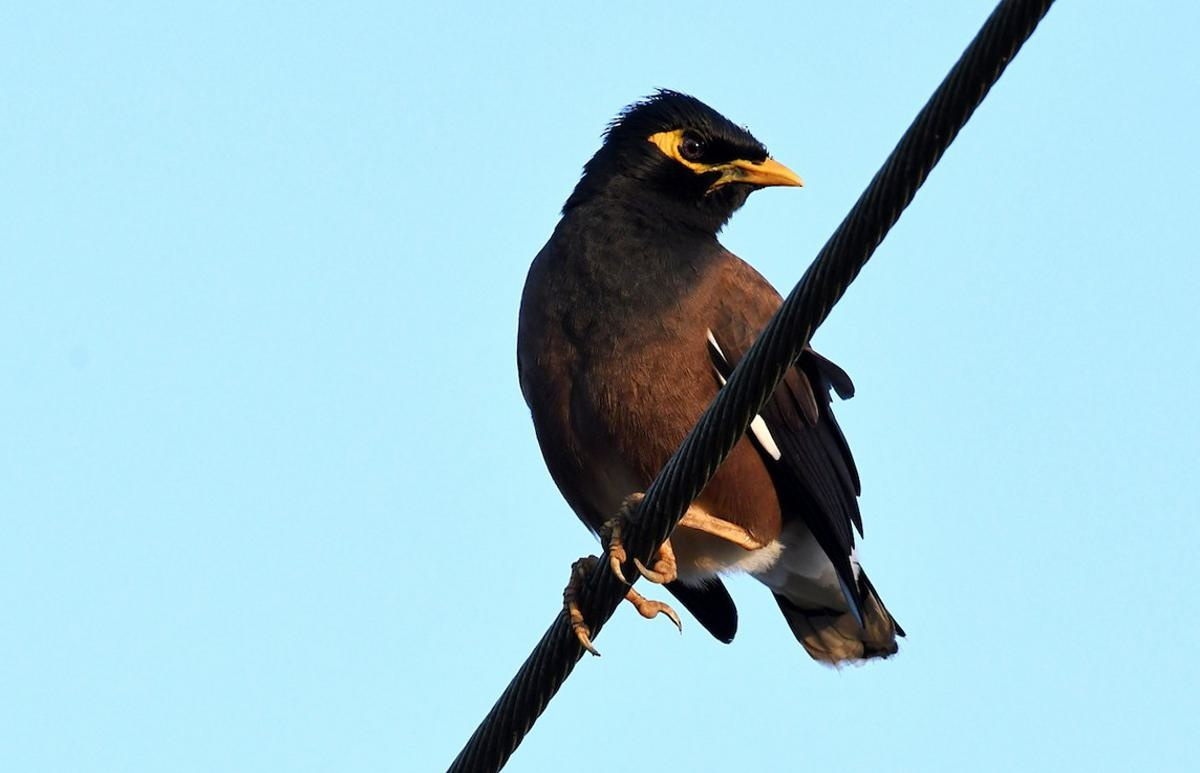myna: (476, 59, 934, 681)
